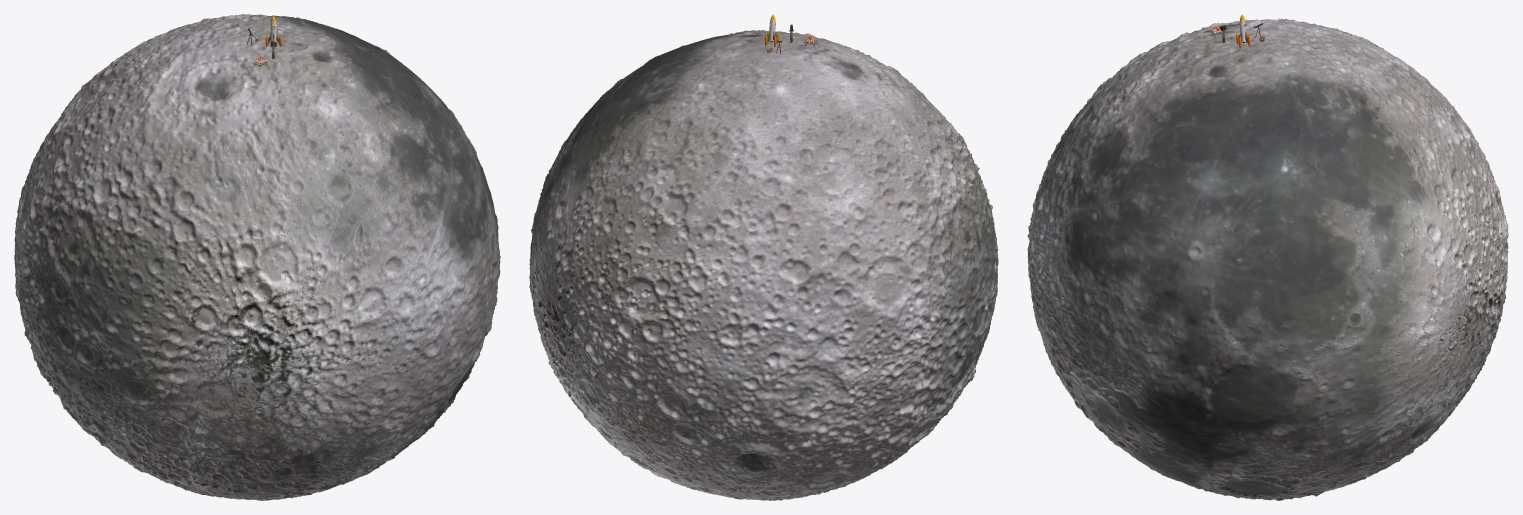
The model's file is Ochi_moon01.glb.
The picture shows the model from 3 angles, left to right: view 1: azimuth 30°, elevation 25°; view 2: azimuth 150°, elevation 25°; view 3: azimuth 270°, elevation 25°; orthographic projection. The views are drawn at different scales.
Parts seen in each view (by area): view 1: moon; view 2: moon; view 3: moon.
Boxes of the visible parts, x1,y1,x2,y2 form: moon: [14, 14, 500, 500]; moon: [529, 30, 998, 500]; moon: [1027, 18, 1508, 500].
Size of the model in its own units: 2.01 by 2.14 by 2.01.
Materials: 26 (6 with a texture image).
